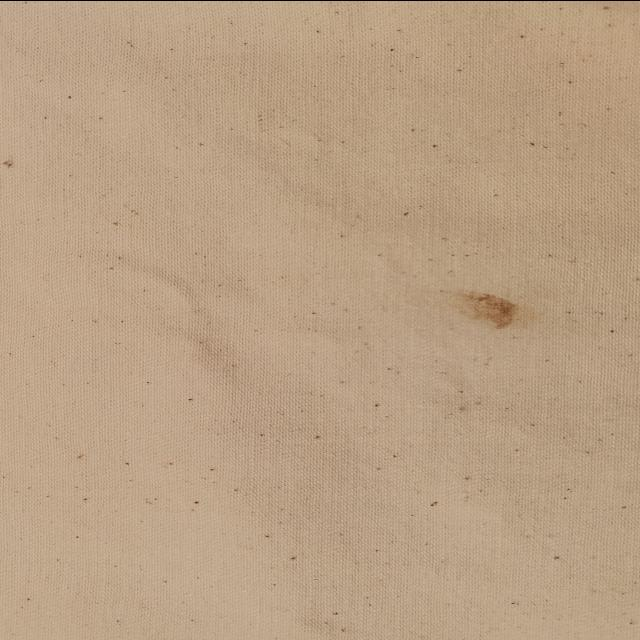taaaches: (434, 286, 536, 328)
